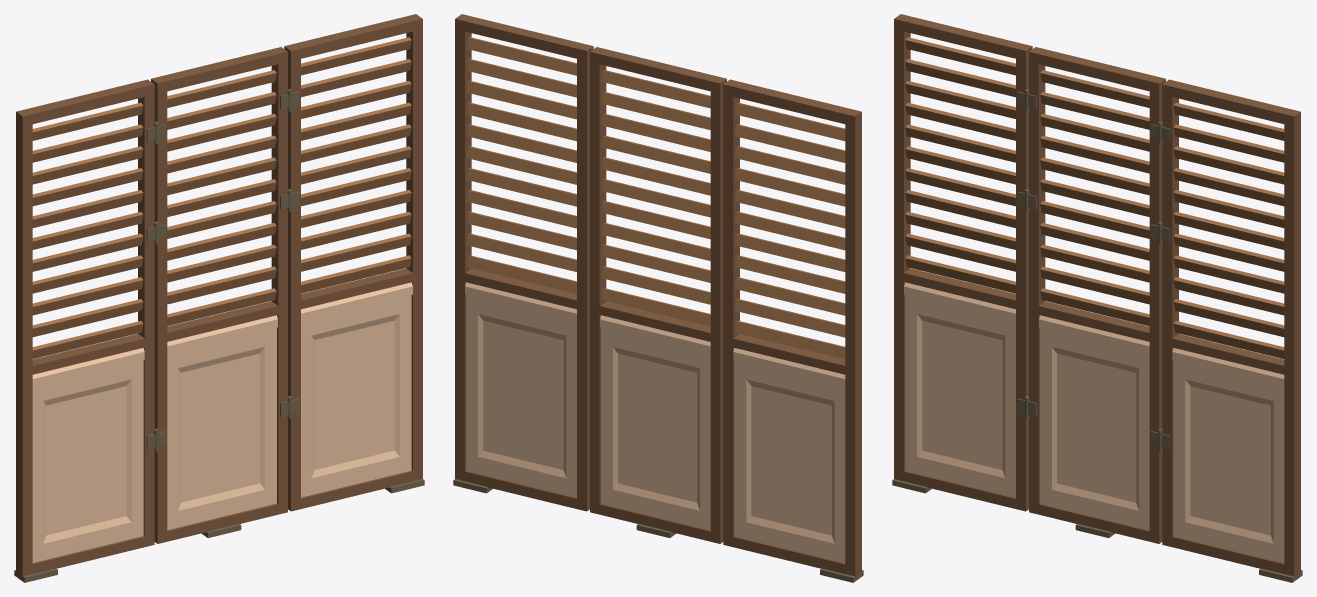
The picture shows the model from 3 angles, left to right: view 1: azimuth 30°, elevation 25°; view 2: azimuth 150°, elevation 25°; view 3: azimuth 330°, elevation 25°; orthographic projection.
Parts seen in each view (by area): view 1: timber-leaf-inset-1, timber-leaf-inset-3, timber-leaf-inset-2, timber-leaf-frame-1, timber-leaf-frame-3, timber-leaf-frame-2, timber-leaf-louvres-1, timber-leaf-louvres-3, timber-leaf-louvres-2, timber-feet; view 2: timber-leaf-inset-1, timber-leaf-inset-3, timber-leaf-inset-2, timber-leaf-frame-1, timber-leaf-frame-2, timber-leaf-frame-3, timber-leaf-louvres-1, timber-leaf-louvres-3, timber-leaf-louvres-2, timber-feet; view 3: timber-leaf-inset-3, timber-leaf-inset-1, timber-leaf-inset-2, timber-leaf-frame-3, timber-leaf-frame-1, timber-leaf-frame-2, timber-leaf-louvres-3, timber-leaf-louvres-1, timber-leaf-louvres-2, timber-feet.
Part boxes in pixels (bbox=[...]): timber-leaf-inset-1: bbox=[32, 348, 144, 562]; timber-leaf-inset-3: bbox=[301, 282, 412, 497]; timber-leaf-inset-2: bbox=[167, 315, 277, 529]; timber-leaf-frame-1: bbox=[16, 79, 154, 576]; timber-leaf-frame-3: bbox=[284, 14, 422, 511]; timber-leaf-frame-2: bbox=[151, 47, 287, 543]; timber-leaf-louvres-1: bbox=[32, 102, 143, 358]; timber-leaf-louvres-3: bbox=[301, 37, 411, 293]; timber-leaf-louvres-2: bbox=[167, 70, 276, 326]; timber-feet: bbox=[14, 479, 424, 582]; timber-leaf-inset-1: bbox=[733, 348, 845, 562]; timber-leaf-inset-3: bbox=[465, 282, 576, 497]; timber-leaf-inset-2: bbox=[600, 315, 710, 529]; timber-leaf-frame-1: bbox=[723, 79, 861, 576]; timber-leaf-frame-2: bbox=[590, 47, 726, 543]; timber-leaf-frame-3: bbox=[455, 14, 593, 511]; timber-leaf-louvres-1: bbox=[734, 102, 845, 359]; timber-leaf-louvres-3: bbox=[466, 37, 576, 293]; timber-leaf-louvres-2: bbox=[601, 70, 710, 326]; timber-feet: bbox=[453, 479, 863, 582]; timber-leaf-inset-3: bbox=[1172, 348, 1284, 562]; timber-leaf-inset-1: bbox=[904, 282, 1015, 497]; timber-leaf-inset-2: bbox=[1039, 315, 1149, 529]; timber-leaf-frame-3: bbox=[1162, 79, 1300, 576]; timber-leaf-frame-1: bbox=[894, 14, 1032, 511]; timber-leaf-frame-2: bbox=[1029, 47, 1165, 543]; timber-leaf-louvres-3: bbox=[1173, 102, 1284, 358]; timber-leaf-louvres-1: bbox=[905, 37, 1015, 293]; timber-leaf-louvres-2: bbox=[1040, 70, 1149, 326]; timber-feet: bbox=[892, 479, 1302, 582].
Size of the model in its own units: 1.8 by 2 by 0.08.
